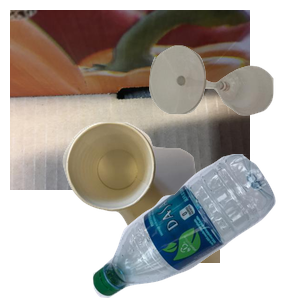cardboard: (10, 10, 250, 190)
glass: (147, 43, 300, 151)
plastic: (90, 154, 300, 300)
trash: (60, 120, 300, 300)
